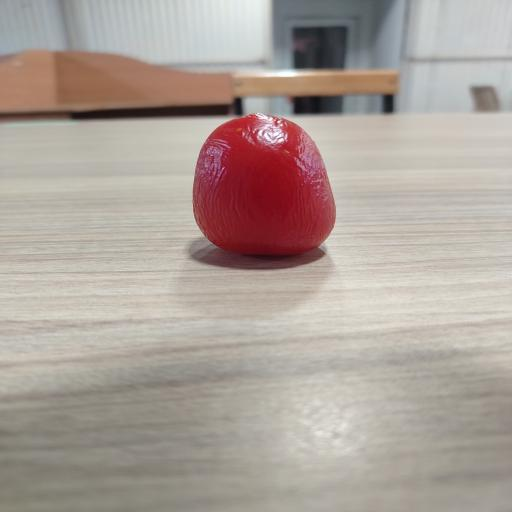spoiled: (193, 114, 336, 255)
